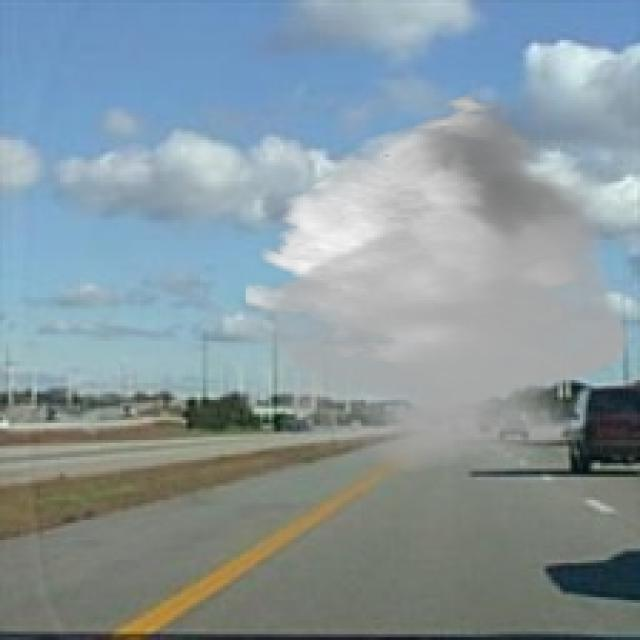Smoke: (245, 91, 638, 472)
